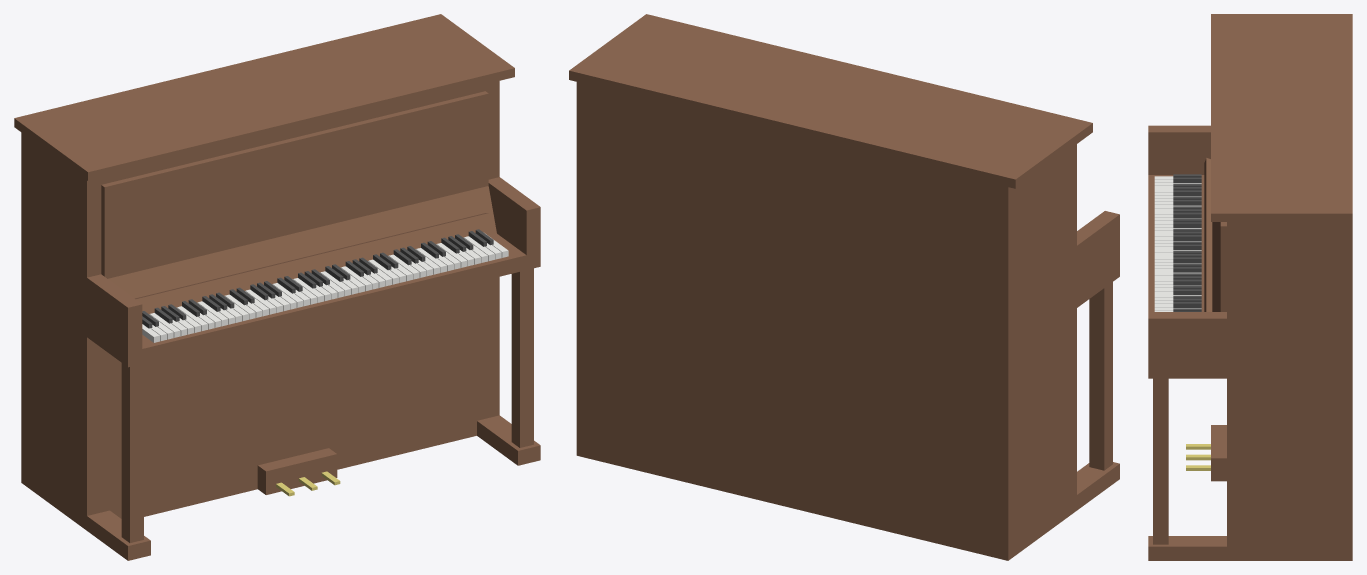
Rendered from piano-1.glb.
3 views of the same model, side by side, from view 1: azimuth 30°, elevation 25°; view 2: azimuth 150°, elevation 25°; view 3: azimuth 270°, elevation 25° (orthographic). The views are drawn at different scales.
Parts seen in each view (by area): view 1: upright_piano-Cube-cube, upright_piano-Cube-cube.003, upright_piano-Cube-cube.001, upright_piano-FallboardAssembly-Cube-cube, upright_piano-Cube-cube.002, upright_piano-front_legs-Cube-cube, upright_piano-front_legs-Cube-cube.001, upright_piano-side_arms-Cube-cube, upright_piano-FallboardAssembly-Cube-cube.001, upright_piano-side_arms-Cube-cube.001, upright_piano-Cube-cube.004, upright_piano-leg_bases-Cube-cube.001 (+1 smaller); view 2: upright_piano-Cube-cube, upright_piano-Cube-cube.001, upright_piano-front_legs-Cube-cube, upright_piano-side_arms-Cube-cube, upright_piano-leg_bases-Cube-cube, upright_piano-Cube-cube.002; view 3: upright_piano-Cube-cube, upright_piano-Cube-cube.001, upright_piano-side_arms-Cube-cube.001, upright_piano-leg_bases-Cube-cube.001, upright_piano-side_arms-Cube-cube, upright_piano-Cube-cube.002, upright_piano-front_legs-Cube-cube.001, upright_piano-FallboardAssembly-Cube-cube.001, upright_piano-Cube-cube.004, upright_piano-FallboardAssembly-Cube-cube, upright_piano-Cube-cube.003.
Part boxes in pixels (bbox=[...]): upright_piano-Cube-cube: bbox=[21, 81, 499, 530]; upright_piano-Cube-cube.003: bbox=[101, 91, 488, 278]; upright_piano-Cube-cube.001: bbox=[14, 14, 514, 180]; upright_piano-FallboardAssembly-Cube-cube: bbox=[108, 186, 496, 314]; upright_piano-Cube-cube.002: bbox=[87, 233, 540, 367]; upright_piano-front_legs-Cube-cube: bbox=[121, 363, 143, 542]; upright_piano-front_legs-Cube-cube.001: bbox=[511, 268, 533, 447]; upright_piano-side_arms-Cube-cube: bbox=[87, 274, 142, 352]; upright_piano-FallboardAssembly-Cube-cube.001: bbox=[135, 213, 489, 304]; upright_piano-side_arms-Cube-cube.001: bbox=[488, 177, 540, 255]; upright_piano-Cube-cube.004: bbox=[257, 448, 337, 494]; upright_piano-leg_bases-Cube-cube.001: bbox=[477, 415, 540, 465]; upright_piano-Cube-cube: bbox=[576, 82, 1076, 560]; upright_piano-Cube-cube.001: bbox=[569, 14, 1092, 188]; upright_piano-front_legs-Cube-cube: bbox=[1089, 282, 1112, 470]; upright_piano-side_arms-Cube-cube: bbox=[1077, 211, 1119, 292]; upright_piano-leg_bases-Cube-cube: bbox=[984, 462, 1119, 560]; upright_piano-Cube-cube.002: bbox=[1077, 261, 1119, 307]; upright_piano-Cube-cube: bbox=[1227, 222, 1352, 560]; upright_piano-Cube-cube.001: bbox=[1211, 14, 1352, 221]; upright_piano-side_arms-Cube-cube.001: bbox=[1148, 312, 1226, 361]; upright_piano-leg_bases-Cube-cube.001: bbox=[1148, 536, 1352, 560]; upright_piano-side_arms-Cube-cube: bbox=[1148, 125, 1210, 174]; upright_piano-Cube-cube.002: bbox=[1148, 175, 1226, 375]; upright_piano-front_legs-Cube-cube.001: bbox=[1153, 375, 1168, 544]; upright_piano-FallboardAssembly-Cube-cube.001: bbox=[1204, 158, 1212, 311]; upright_piano-Cube-cube.004: bbox=[1211, 425, 1226, 481]; upright_piano-FallboardAssembly-Cube-cube: bbox=[1212, 222, 1220, 311]; upright_piano-Cube-cube.003: bbox=[1220, 222, 1226, 311].
Size of the model in its own units: 1.5 by 1.23 by 0.65.
